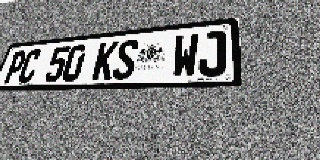0: (60, 44, 88, 82)
5: (43, 46, 70, 82)
C: (16, 49, 43, 83)
J: (198, 30, 226, 77)
K: (91, 41, 119, 81)
P: (2, 50, 28, 84)
S: (111, 39, 139, 80)
W: (171, 33, 199, 78)
